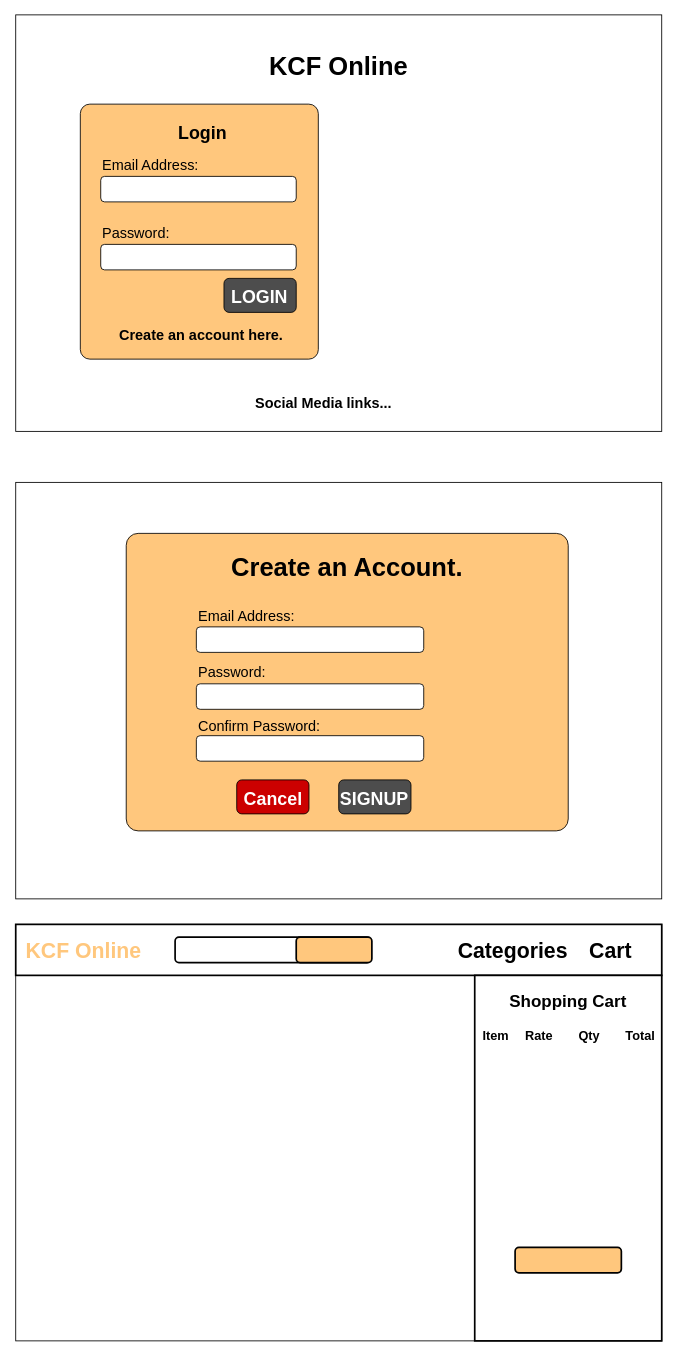
Some shapes in this 689 by 1357 pixel diagram are drawn without their labels. Here are the shapes that lost their labels. From the top down, the box of each, then its label:
(295, 936, 372, 963): Search
(514, 1246, 622, 1273): Make Purchase
